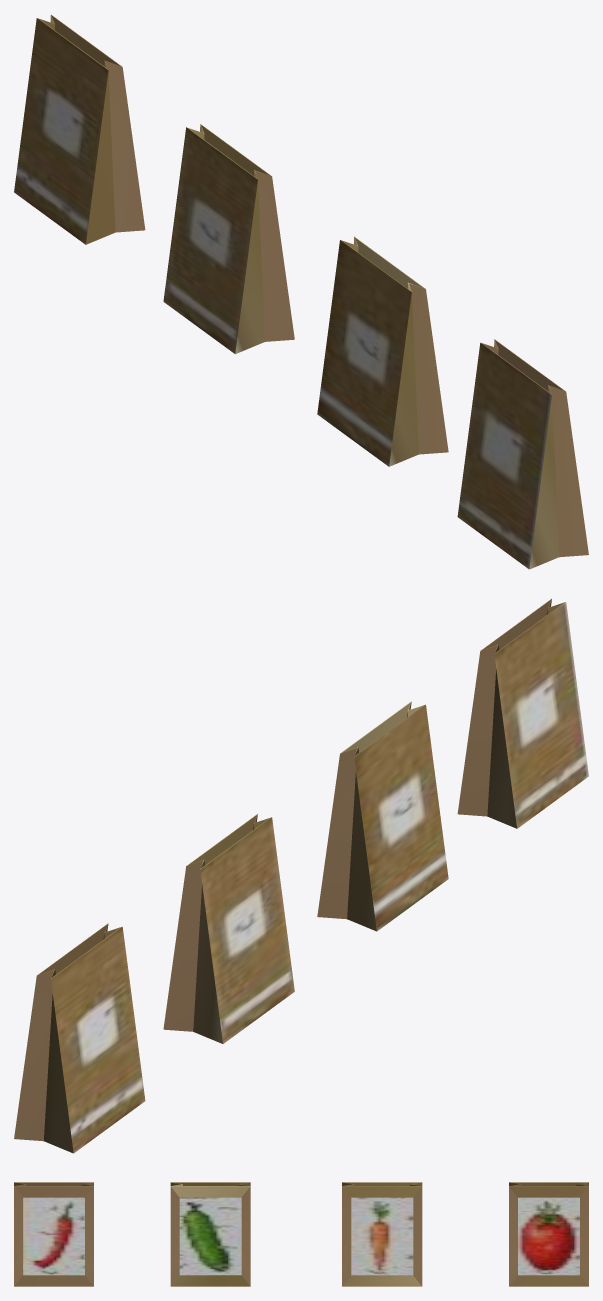
The model's file is Seed Pack.fbx.
3 views of the same model, one above another, from view 1: azimuth 30°, elevation 25°; view 2: azimuth 150°, elevation 25°; view 3: azimuth 270°, elevation 25° (orthographic). The views are drawn at different scales.
Visible parts, largest first — view 1: seedpack, seedpack2, seedpack3, seedpack1; view 2: seedpack2, seedpack1, seedpack, seedpack3; view 3: seedpack2, seedpack3, seedpack1, seedpack.
Part boxes in pixels (x1,y1,x2,y2): seedpack: [14, 14, 145, 244]; seedpack2: [317, 236, 448, 466]; seedpack3: [163, 124, 294, 354]; seedpack1: [457, 339, 588, 569]; seedpack2: [317, 701, 448, 931]; seedpack1: [457, 598, 588, 828]; seedpack: [14, 923, 145, 1153]; seedpack3: [163, 814, 294, 1043]; seedpack2: [170, 1182, 250, 1286]; seedpack3: [342, 1182, 422, 1286]; seedpack1: [14, 1182, 93, 1286]; seedpack: [509, 1182, 588, 1286].
Bounding box in the file's own units: 74.69 × 202 × 1118.
